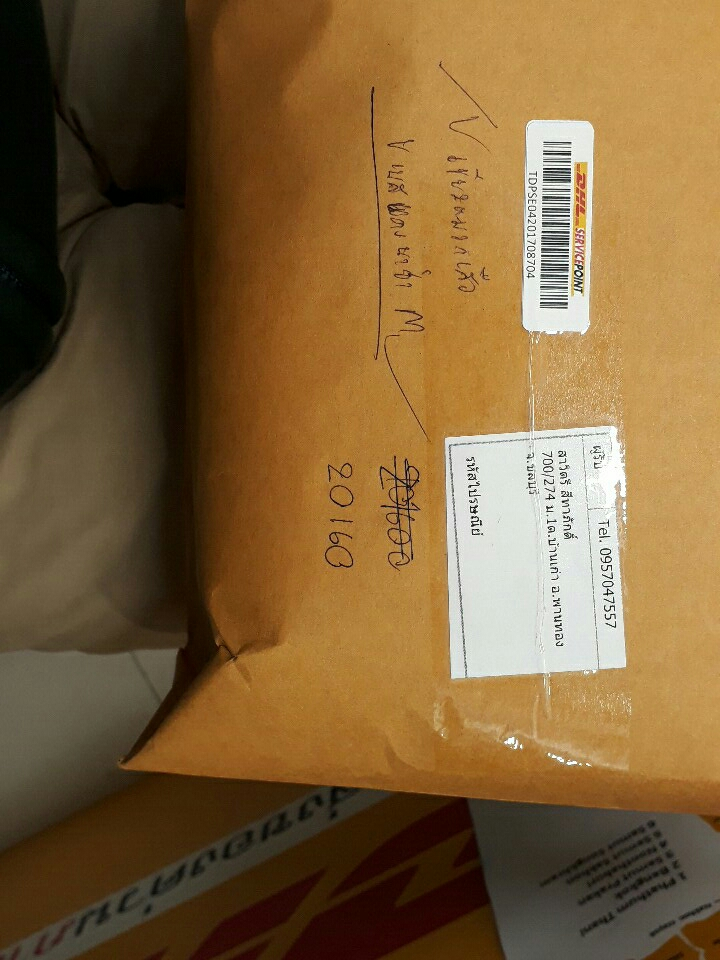ba: (514, 113, 602, 345)
txt: (464, 440, 625, 652)
